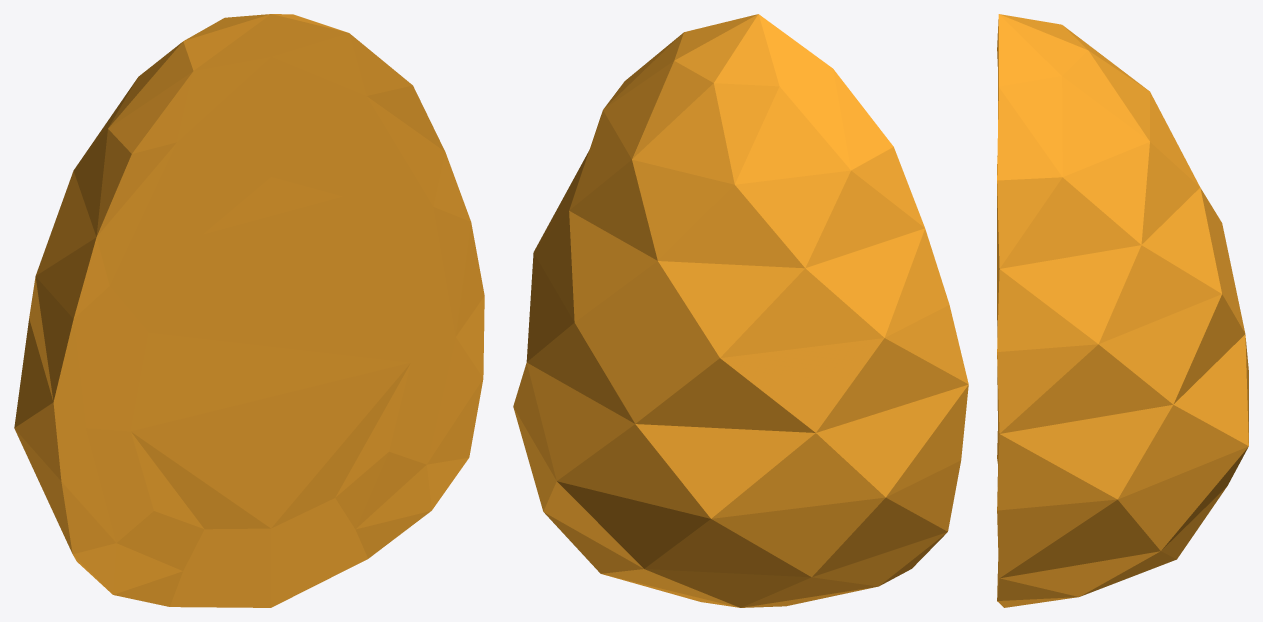
File: SM_Half_Dragon_Egg_B.fbx
The picture shows the model from 3 angles, left to right: view 1: azimuth 30°, elevation 25°; view 2: azimuth 150°, elevation 25°; view 3: azimuth 270°, elevation 25°; orthographic projection. The views are drawn at different scales.
Parts seen in each view (by area): view 1: half-dragon-egg-b; view 2: half-dragon-egg-b; view 3: half-dragon-egg-b.
Boxes of the visible parts, <box> form: half-dragon-egg-b: <box>14,14,484,607</box>; half-dragon-egg-b: <box>513,14,968,607</box>; half-dragon-egg-b: <box>997,14,1248,607</box>.
Size of the model in its own units: 0.232 by 0.3046 by 0.1221.
